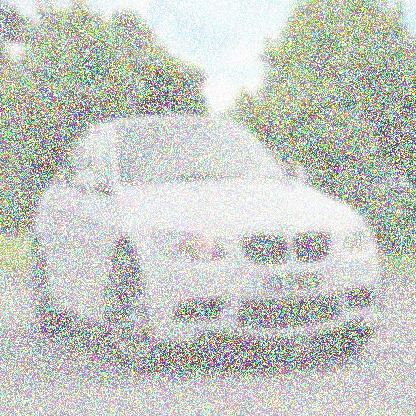Vehicle: (34, 111, 390, 380)
